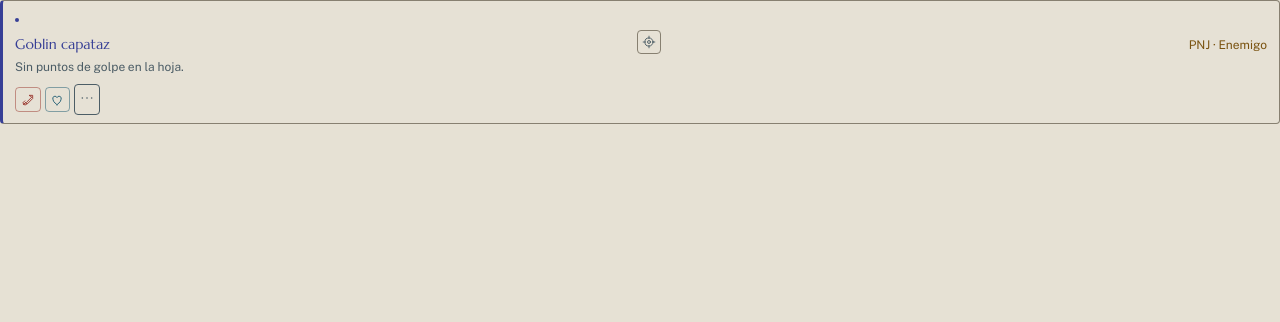
el menú del PNJ ofrece revelar/ocultar según su visibilidad › un PNJ oculto ofrece «Revelar a la mesa»
Click the button named "Más acciones sobre Goblin capataz": x=87, y=100 [74,84,100,115]
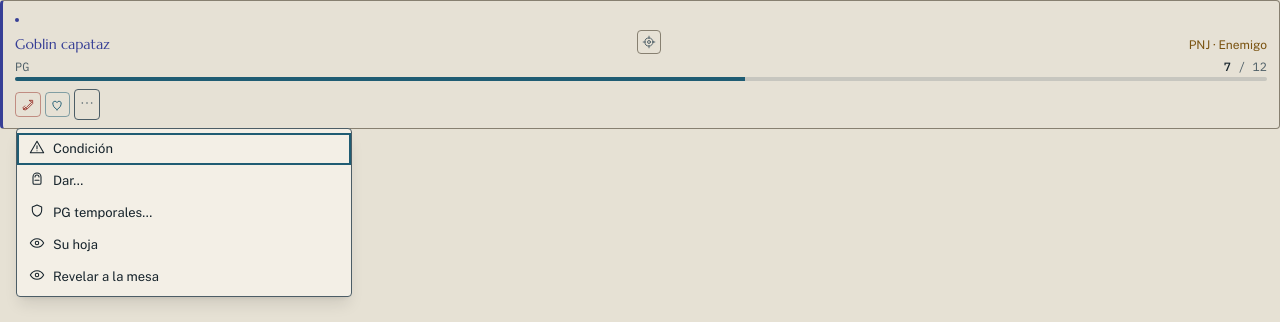
Check: the menu item "Revelar a la mesa" is shown, box [17,260,351,292]
